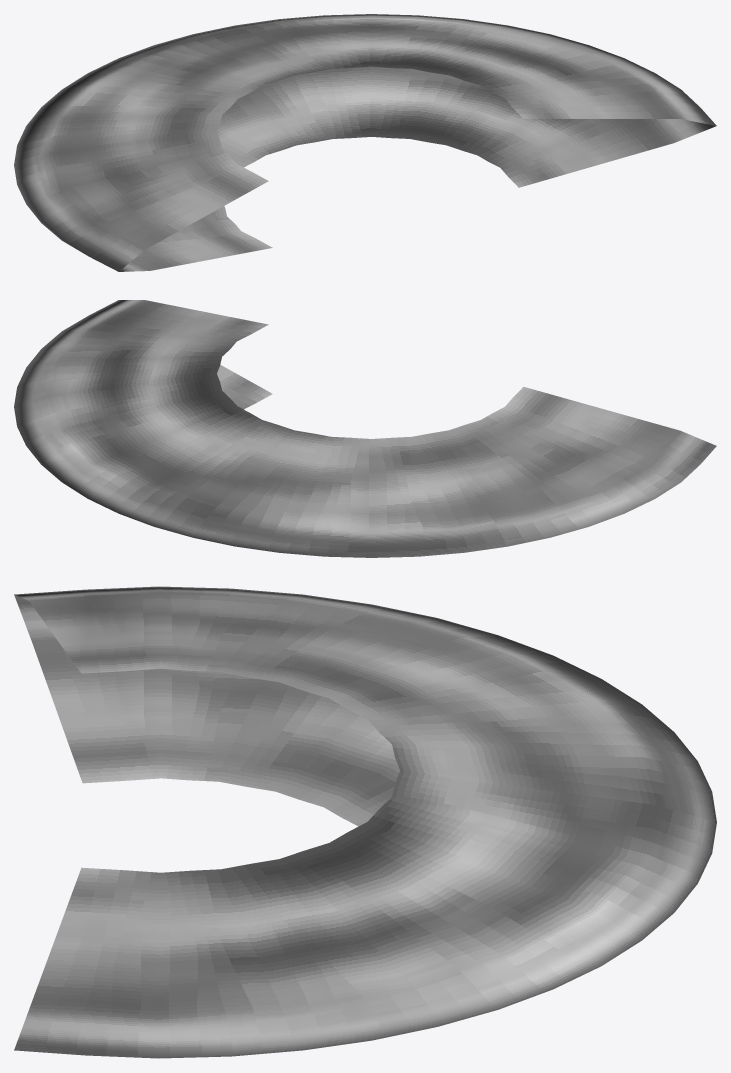
3 renders of one model, top to bottom at view 1: azimuth 30°, elevation 25°; view 2: azimuth 150°, elevation 25°; view 3: azimuth 270°, elevation 25°, orthographic. The views are drawn at different scales.
Visible parts, largest first — view 1: SM_Attack_Arc_04_336_LOD0; view 2: SM_Attack_Arc_04_336_LOD0; view 3: SM_Attack_Arc_04_336_LOD0.
Part boxes in pixels (bbox=[...]): SM_Attack_Arc_04_336_LOD0: bbox=[14, 14, 716, 271]; SM_Attack_Arc_04_336_LOD0: bbox=[14, 300, 716, 557]; SM_Attack_Arc_04_336_LOD0: bbox=[14, 586, 716, 1058].
Bounding box in the file's own units: 4.07 × 0.4275 × 2.56.
Materials: 1 (1 with a texture image).
